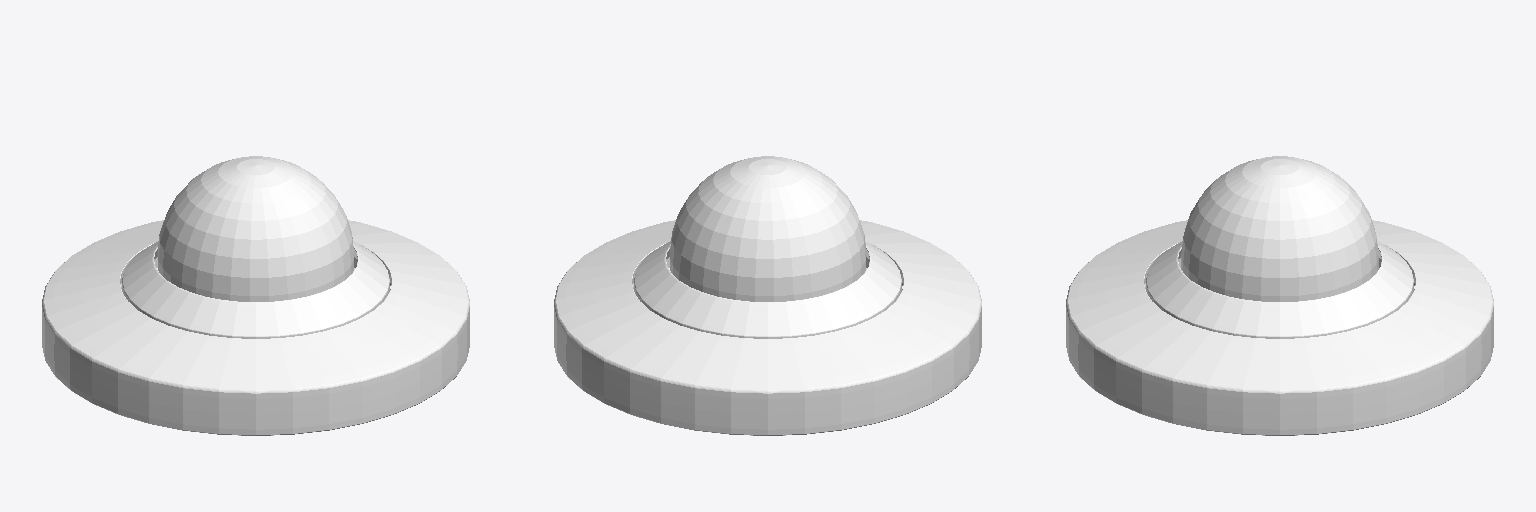
File: camera.obj
The picture shows the model from 3 angles: view 1: azimuth 30°, elevation 25°; view 2: azimuth 150°, elevation 25°; view 3: azimuth 270°, elevation 25°; orthographic projection.
Parts seen in each view (by area): view 1: corpus, window; view 2: corpus, window; view 3: corpus, window.
Boxes of the visible parts, box(x1,y1,x2,y2) form: corpus: box(42, 220, 469, 435); window: box(158, 156, 353, 301); corpus: box(554, 220, 981, 435); window: box(670, 156, 865, 301); corpus: box(1066, 220, 1493, 435); window: box(1181, 156, 1378, 301).
Size of the model in its own units: 41.35 by 19.29 by 41.34.